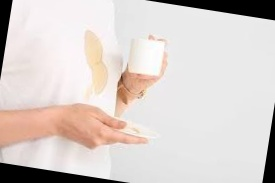coffee: (79, 35, 113, 95)
